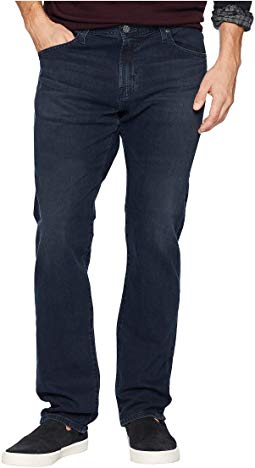Jeans: (27, 26, 212, 427)
